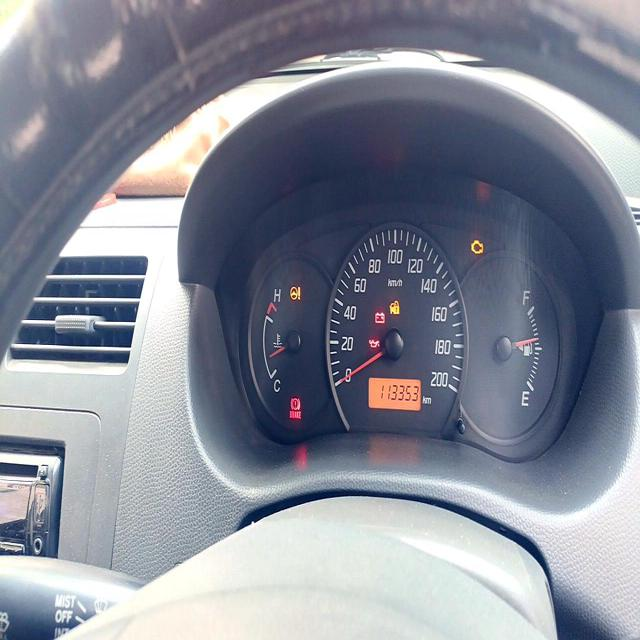odometer: (379, 380, 420, 403)
